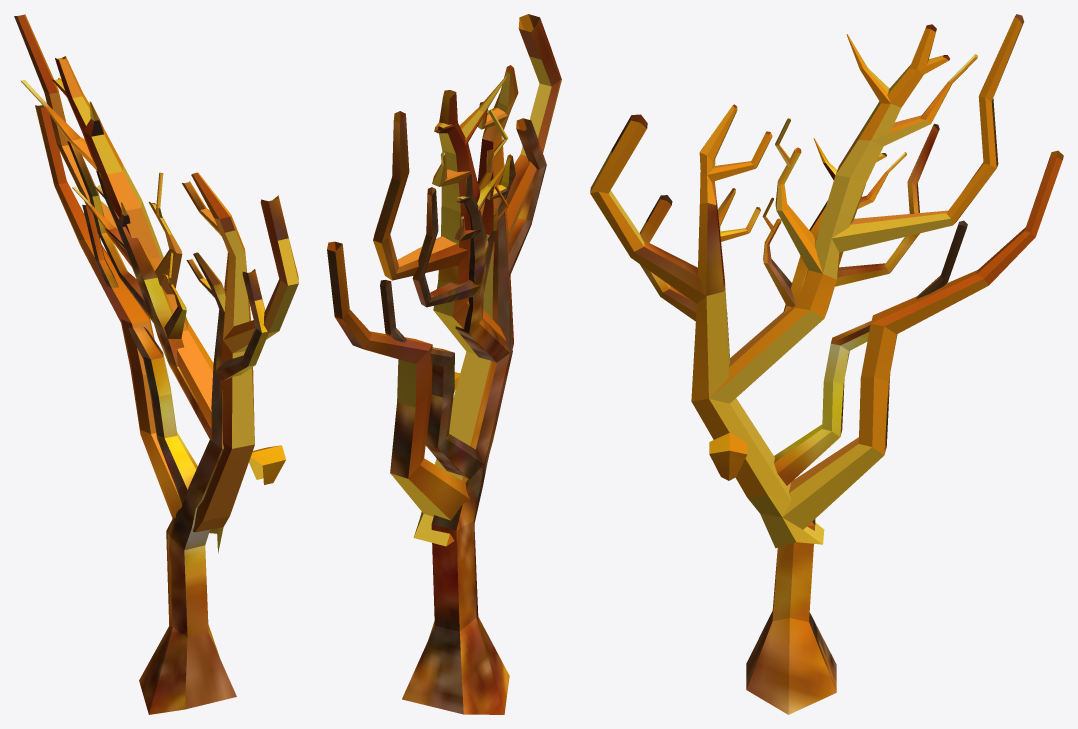
File: arbol.obj
3 views of the same model, side by side, from view 1: azimuth 30°, elevation 25°; view 2: azimuth 150°, elevation 25°; view 3: azimuth 270°, elevation 25° (orthographic). The views are drawn at different scales.
Parts seen in each view (by area): view 1: Cube.001_Material.002, Cube_Material.001; view 2: Cube.001_Material.002, Cube_Material.001; view 3: Cube.001_Material.002, Cube_Material.001.
Boxes of the visible parts, x1=… form: Cube.001_Material.002: x1=14, y1=14, x2=298, y2=553; Cube_Material.001: x1=67, y1=141, x2=268, y2=714; Cube.001_Material.002: x1=327, y1=14, x2=561, y2=546; Cube_Material.001: x1=380, y1=118, x2=546, y2=714; Cube.001_Material.002: x1=590, y1=14, x2=1063, y2=548; Cube_Material.001: x1=639, y1=123, x2=967, y2=714.
Bounding box in the file's own units: 1.24 × 5.2 × 3.44.
2 materials, 2 textured.
